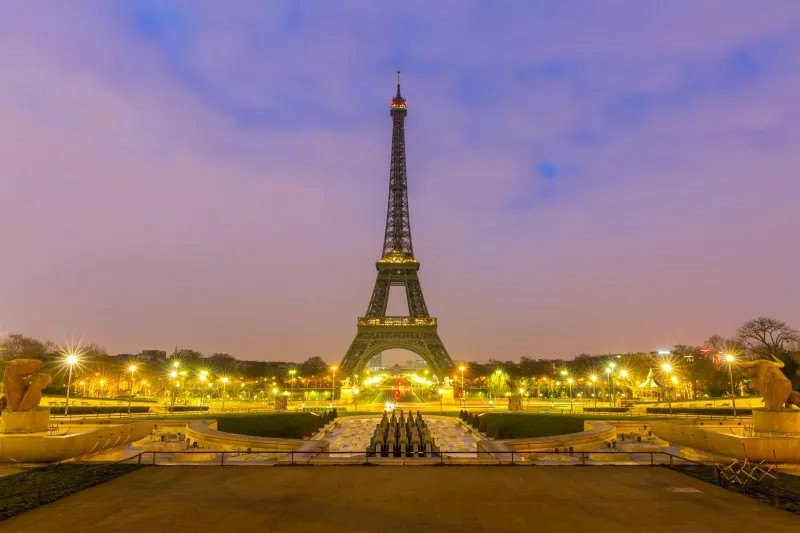Eiffel: (334, 71, 456, 383)
